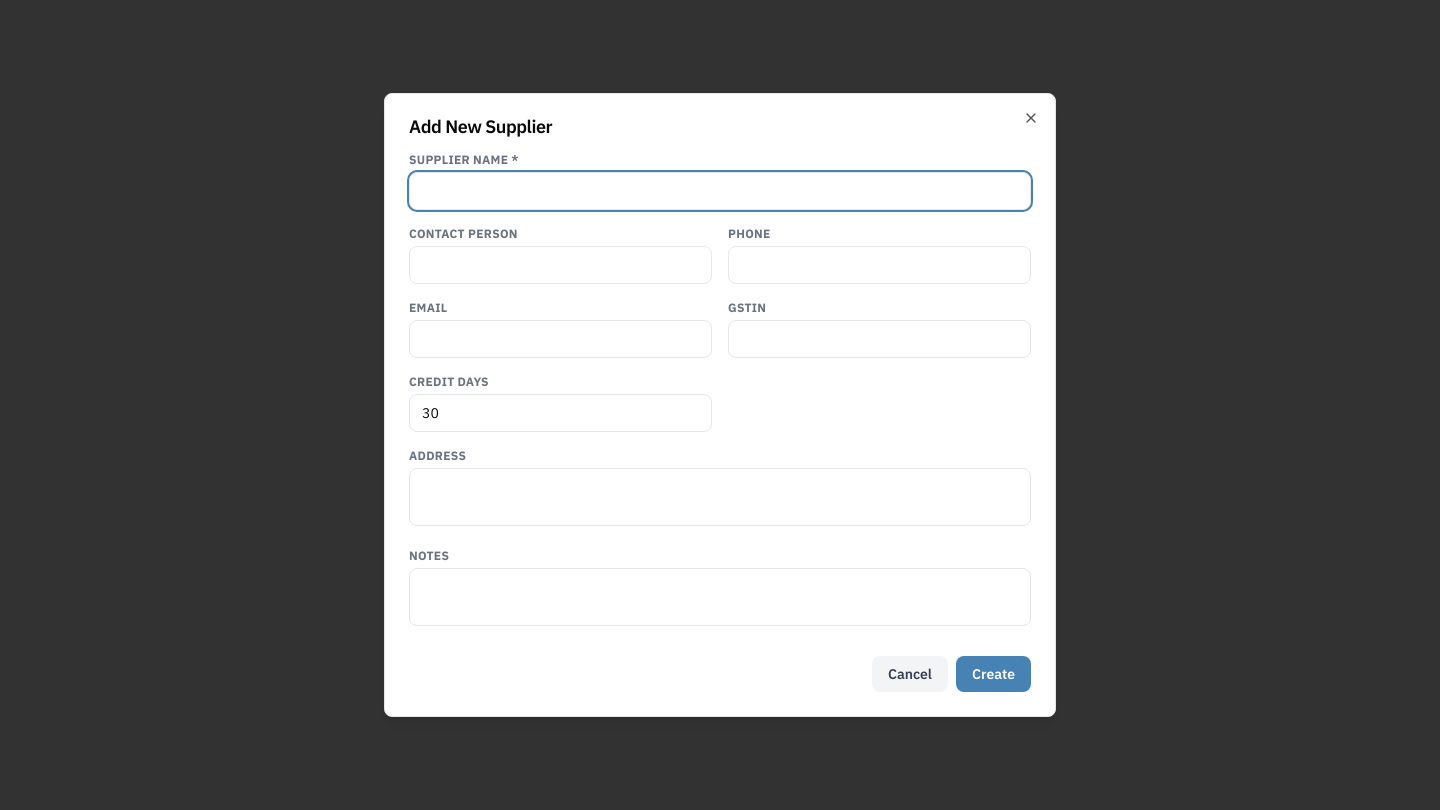
Test case: SupplierFormModal › shows validation error when name is empty
Step 1. Click the button with test id "submit-supplier-btn" → coordinates (994, 674), box [956,656,1031,692]
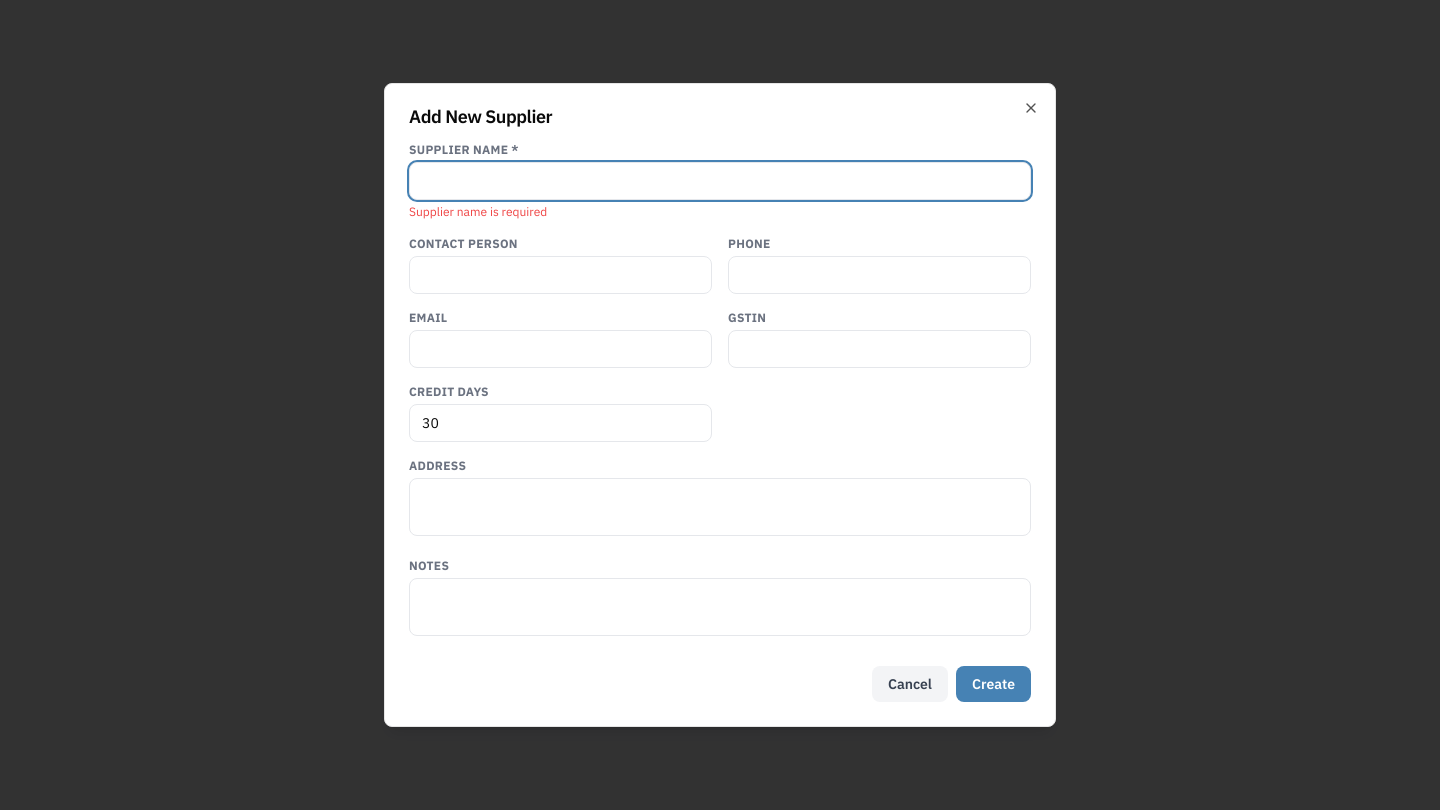
Now the text "Supplier name is required" is shown, box [409,204,547,219]
